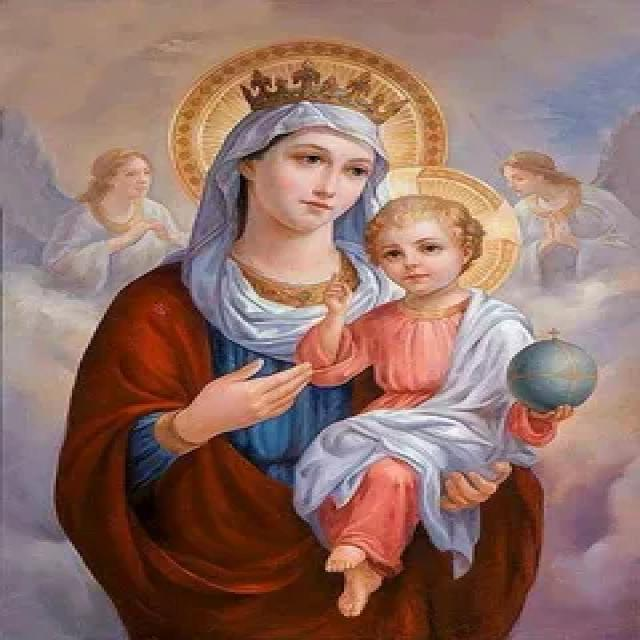mother of god: (63, 83, 589, 640)
